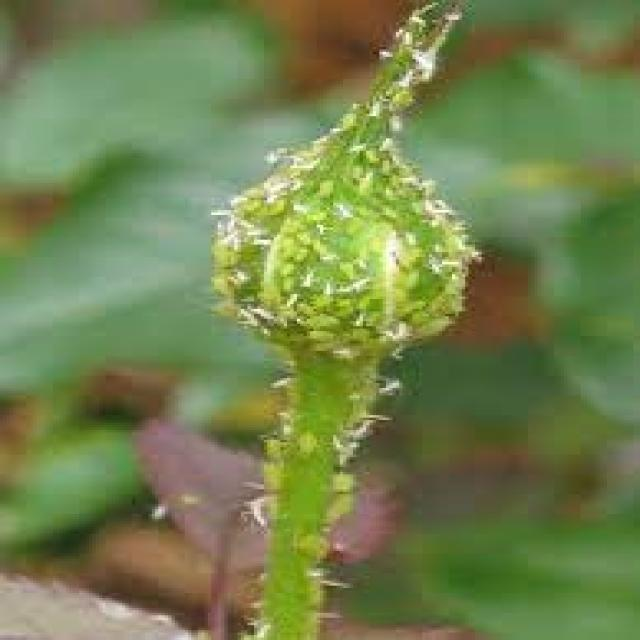aphid: (244, 452, 284, 497), (314, 487, 356, 524), (290, 526, 330, 561), (287, 423, 320, 462), (303, 171, 340, 205), (198, 294, 247, 319), (383, 82, 419, 116), (287, 309, 340, 329), (201, 267, 234, 299), (254, 430, 287, 460), (389, 292, 426, 318), (326, 104, 359, 133), (393, 264, 422, 292), (258, 193, 290, 217), (294, 324, 339, 341), (346, 286, 373, 314), (300, 334, 337, 354), (336, 321, 373, 341), (353, 138, 379, 166), (300, 287, 333, 309), (231, 190, 264, 212), (284, 222, 313, 247), (399, 302, 429, 326), (369, 151, 396, 175), (284, 296, 313, 318), (284, 240, 313, 262), (330, 255, 356, 279), (340, 156, 366, 180), (267, 257, 297, 277), (297, 202, 327, 222), (270, 272, 297, 294)
